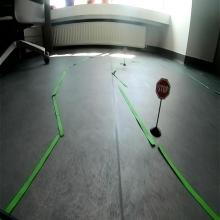stop: (156, 78, 171, 99)
